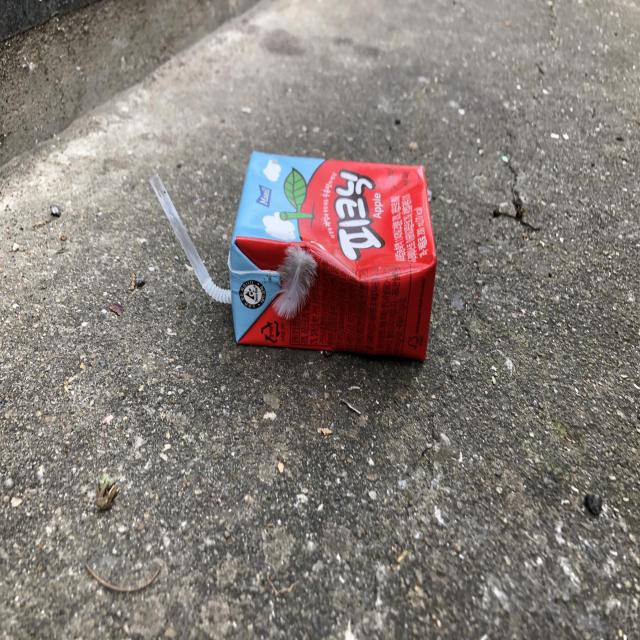paperpack: (228, 151, 437, 361)
